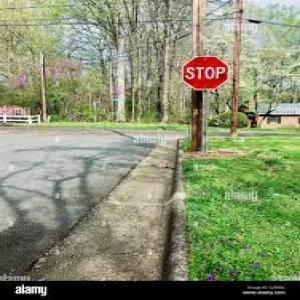STOP: (181, 55, 231, 91)
